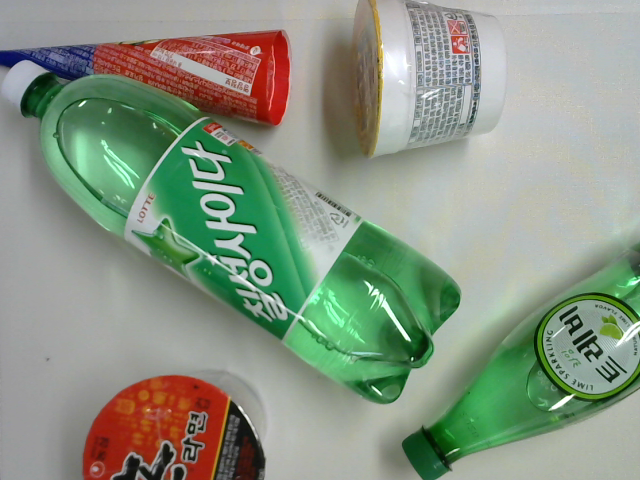Chilseong_Cider_1.5L: (1, 57, 461, 403), (82, 372, 265, 480)
Hejangmini: (346, 1, 507, 159)
Treviraim_500ml: (401, 234, 640, 478)
World_Cone_Banila: (1, 31, 293, 128)
